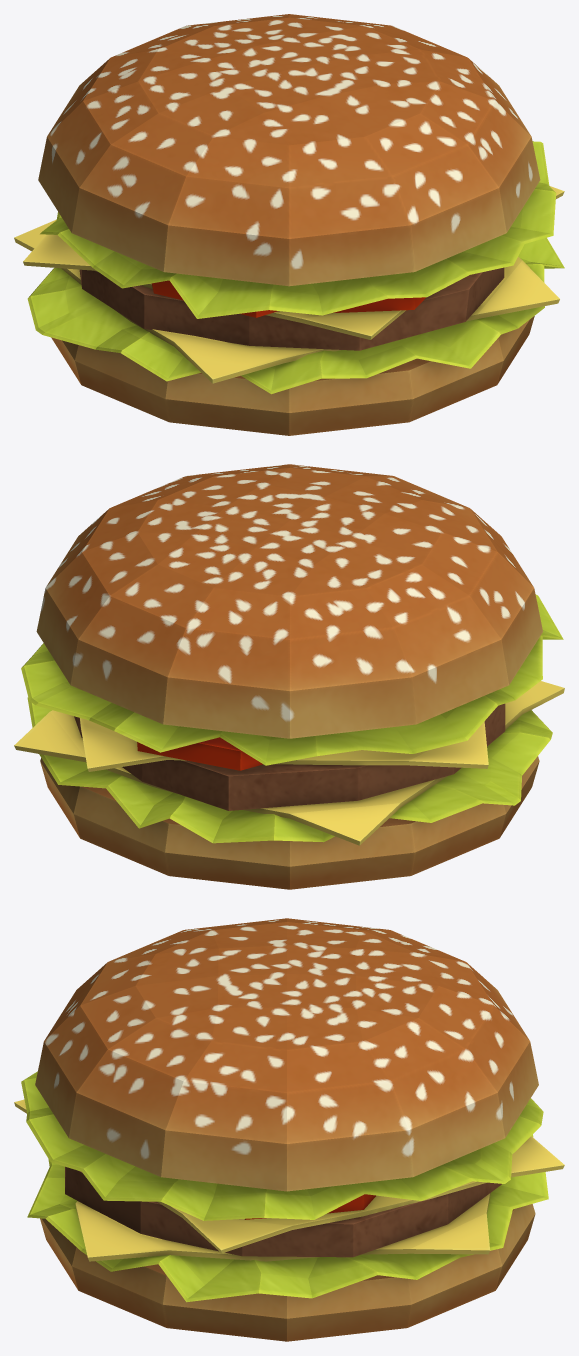
Rendered from scene_bur.glb.
3 renders of one model, top to bottom at view 1: azimuth 30°, elevation 25°; view 2: azimuth 150°, elevation 25°; view 3: azimuth 270°, elevation 25°, orthographic.
Parts seen in each view (by area): view 1: node-0; view 2: node-0; view 3: node-0.
Part boxes in pixels (x1,y1,x2,y2): node-0: (14,14,564,435); node-0: (14,464,564,889); node-0: (14,918,564,1341).
Size of the model in its own units: 7.24 by 3.81 by 7.15.
1 material, 1 textured.
